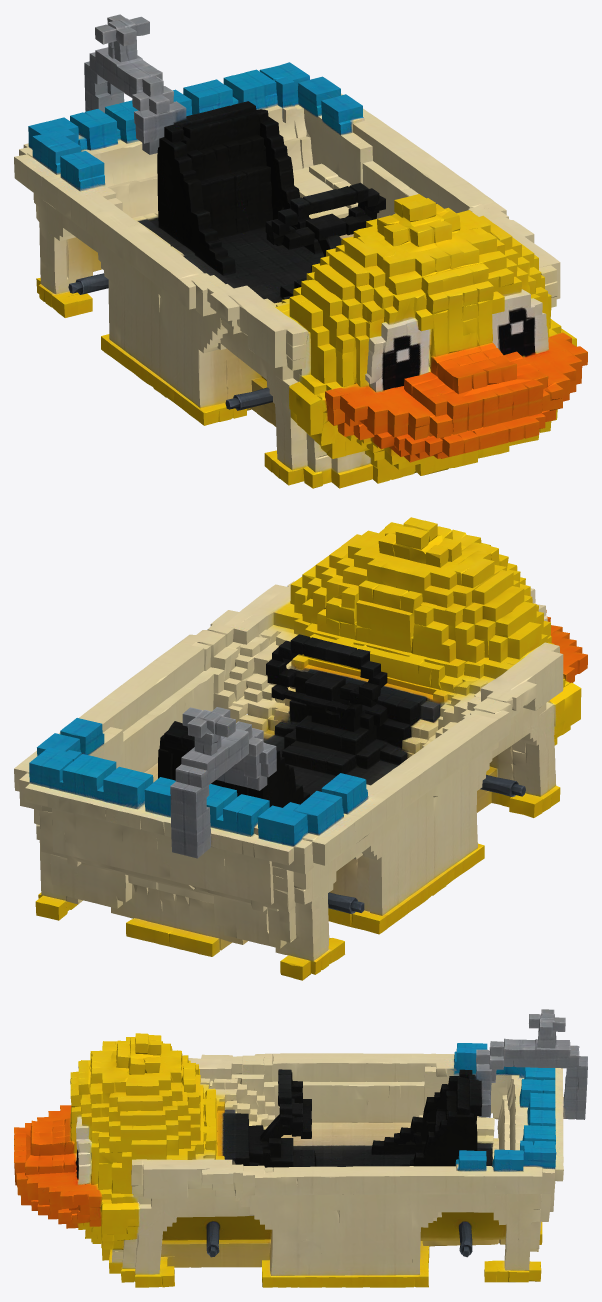
The model's file is bubble-duck.glb.
The picture shows the model from 3 angles, top to bottom: view 1: azimuth 30°, elevation 25°; view 2: azimuth 150°, elevation 25°; view 3: azimuth 270°, elevation 25°; orthographic projection. The views are drawn at different scales.
Parts seen in each view (by area): view 1: model; view 2: model; view 3: model.
Boxes of the visible parts, x1,y1,x2,y2 form: model: (14,14,587,488); model: (14,517,587,980); model: (14,1009,587,1287).
Bounding box in the file's own units: 0.9685 × 0.7384 × 1.9.
1 material, 1 textured.
